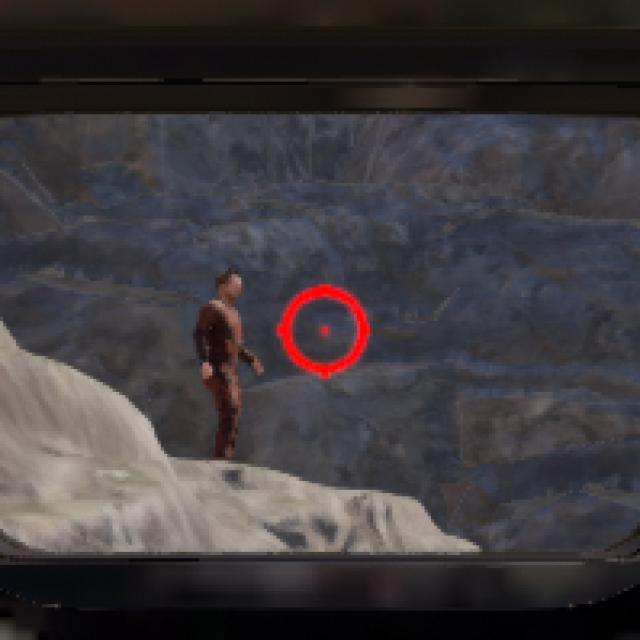Player: (196, 273, 264, 457)
